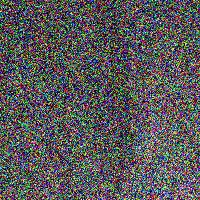inclusion: (93, 1, 146, 197)
